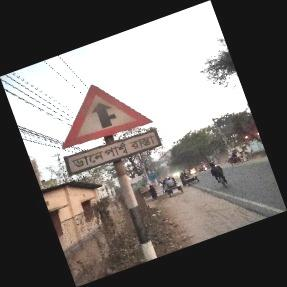Side-road-right: (63, 84, 170, 174)
